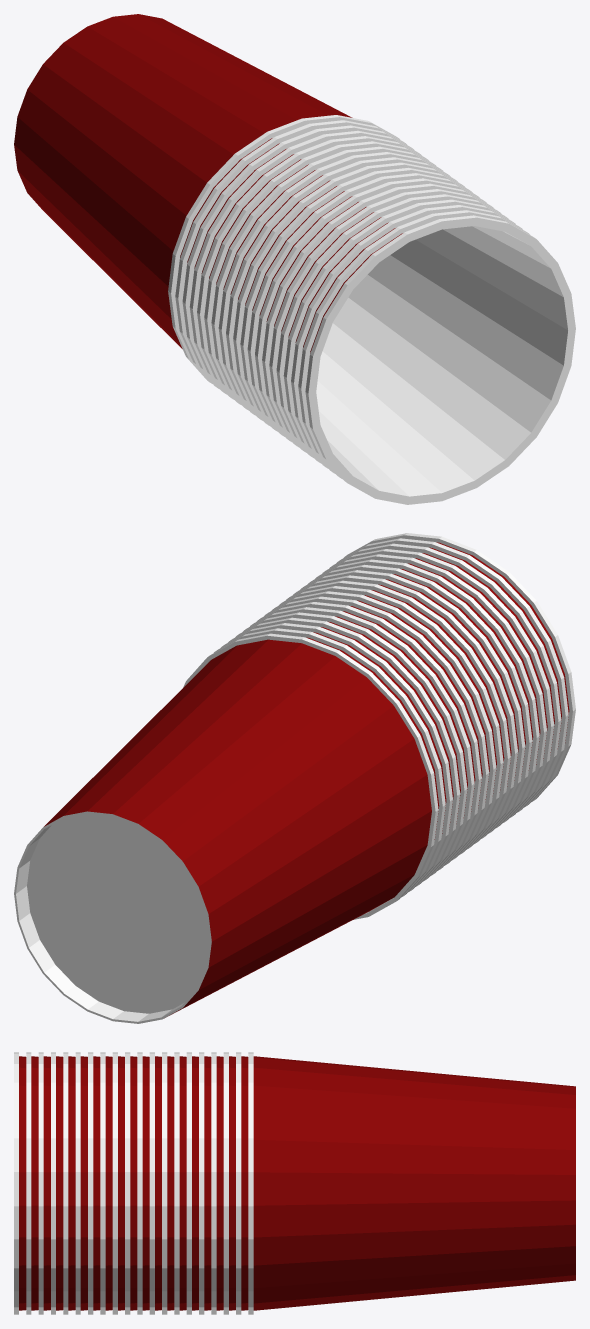
The picture shows the model from 3 angles, top to bottom: view 1: azimuth 30°, elevation 25°; view 2: azimuth 150°, elevation 25°; view 3: azimuth 270°, elevation 25°; orthographic projection. The views are drawn at different scales.
Parts seen in each view (by area): view 1: red plastic party cup stack of; view 2: red plastic party cup stack of; view 3: red plastic party cup stack of.
Boxes of the visible parts, x1=… form: red plastic party cup stack of: x1=14, y1=14, x2=575, y2=504; red plastic party cup stack of: x1=14, y1=533, x2=575, y2=1023; red plastic party cup stack of: x1=14, y1=1052, x2=575, y2=1314.
Size of the model in its own units: 5.34 by 5.34 by 11.39.
